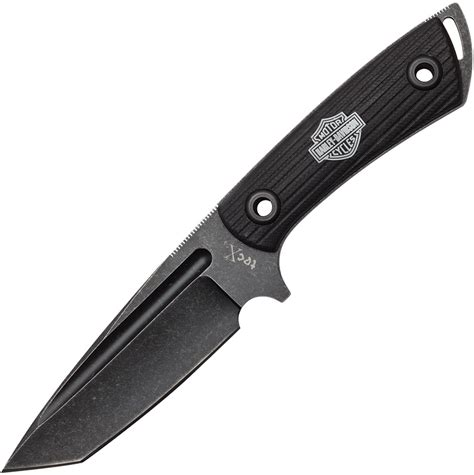knife: (6, 5, 467, 470)
